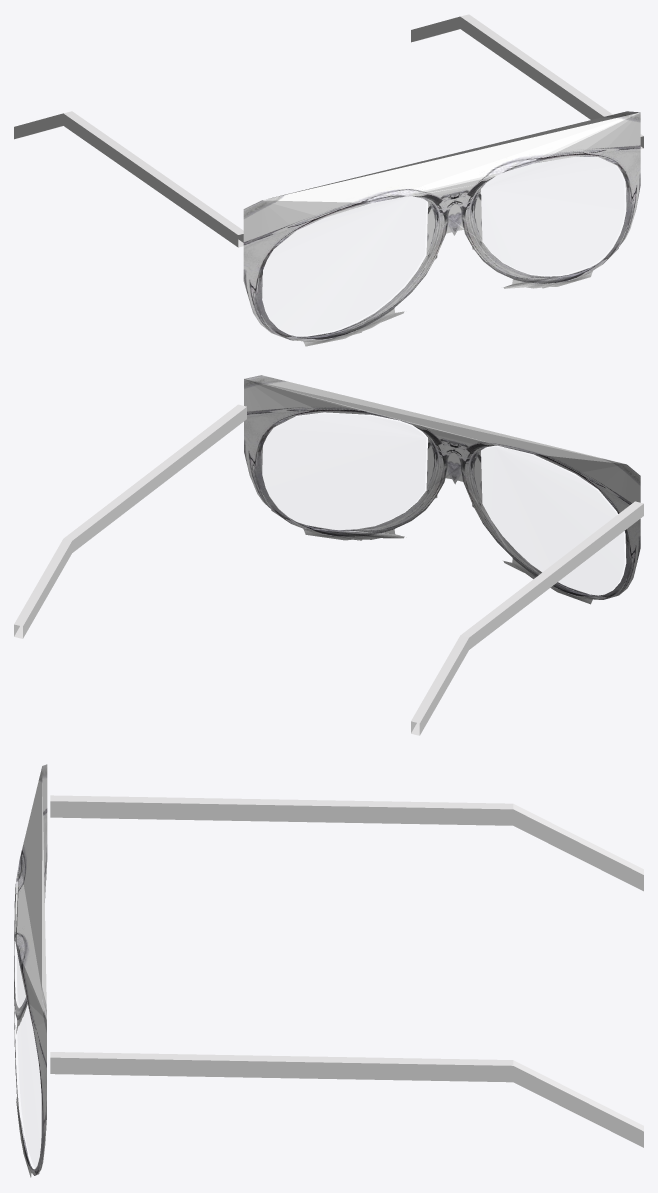
The model's file is times-square-easy-fit-1_crystal.glb.
The picture shows the model from 3 angles, top to bottom: view 1: azimuth 30°, elevation 25°; view 2: azimuth 150°, elevation 25°; view 3: azimuth 270°, elevation 25°; orthographic projection. The views are drawn at different scales.
Parts seen in each view (by area): view 1: frame_front, temple_viewer_left, temple_viewer_right; view 2: frame_front, temple_viewer_right, temple_viewer_left; view 3: temple_viewer_left, temple_viewer_right, frame_front.
Part boxes in pixels (bbox=[...]): frame_front: bbox=[243, 111, 640, 346]; temple_viewer_left: bbox=[14, 111, 243, 247]; temple_viewer_right: bbox=[411, 14, 643, 149]; frame_front: bbox=[244, 375, 640, 604]; temple_viewer_right: bbox=[14, 404, 246, 638]; temple_viewer_left: bbox=[411, 501, 643, 735]; temple_viewer_left: bbox=[50, 795, 643, 891]; temple_viewer_right: bbox=[50, 1052, 643, 1147]; frame_front: bbox=[14, 764, 47, 1177].
Size of the model in its own units: 0.1369 by 0.0493 by 0.139.
3 materials, 2 textured.
